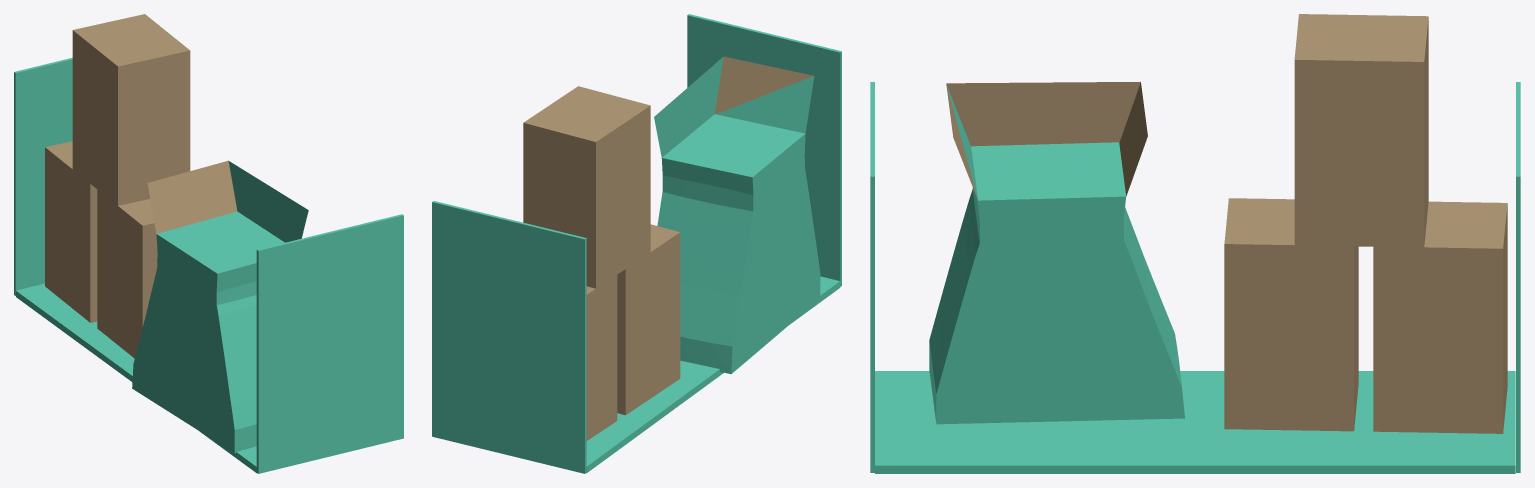
3 renders of one model, left to right at view 1: azimuth 30°, elevation 25°; view 2: azimuth 150°, elevation 25°; view 3: azimuth 270°, elevation 25°, orthographic. The views are drawn at different scales.
Parts seen in each view (by area): view 1: world; view 2: world; view 3: world.
Boxes of the visible parts, x1,y1,x2,y2 form: world: (14,14,403,473); world: (432,14,841,473); world: (870,14,1520,473).
Bounding box in the file's own units: 0.3686 × 0.6434 × 1.
